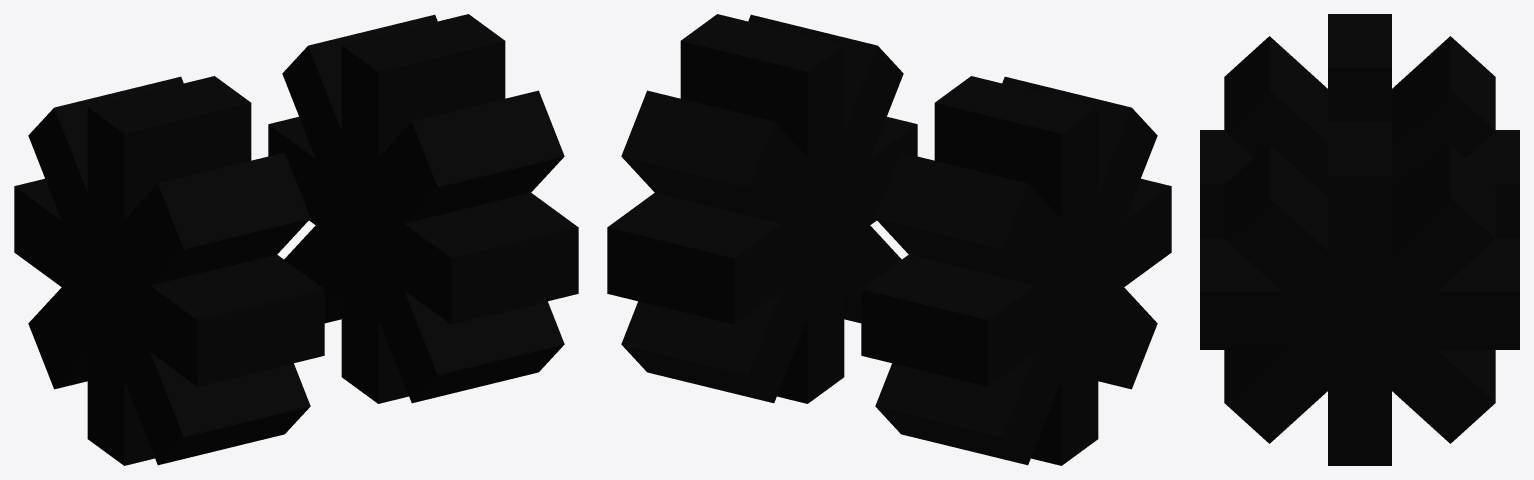
Rendered from block_cogs.obj.
3 renders of one model, left to right at view 1: azimuth 30°, elevation 25°; view 2: azimuth 150°, elevation 25°; view 3: azimuth 270°, elevation 25°, orthographic. The views are drawn at different scales.
Parts seen in each view (by area): view 1: block_cogs; view 2: block_cogs; view 3: block_cogs.
Part boxes in pixels (x1,y1,x2,y2): block_cogs: (14,14,578,465); block_cogs: (607,14,1171,465); block_cogs: (1200,14,1519,465).
Bounding box in the file's own units: 0.375 × 0.3125 × 0.3125.
